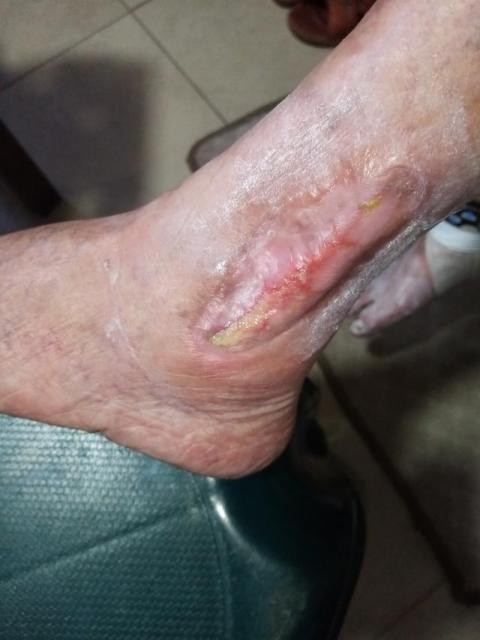wound: (186, 163, 435, 358)
